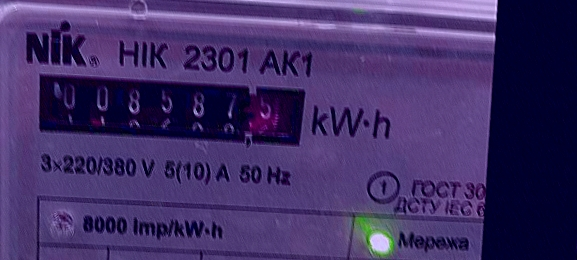0: (57, 79, 76, 109), (91, 82, 110, 111)
5: (255, 91, 274, 121), (155, 85, 174, 114)
7: (219, 88, 238, 119)
8: (187, 87, 206, 118), (123, 85, 141, 114)
screen: (15, 56, 322, 158)
